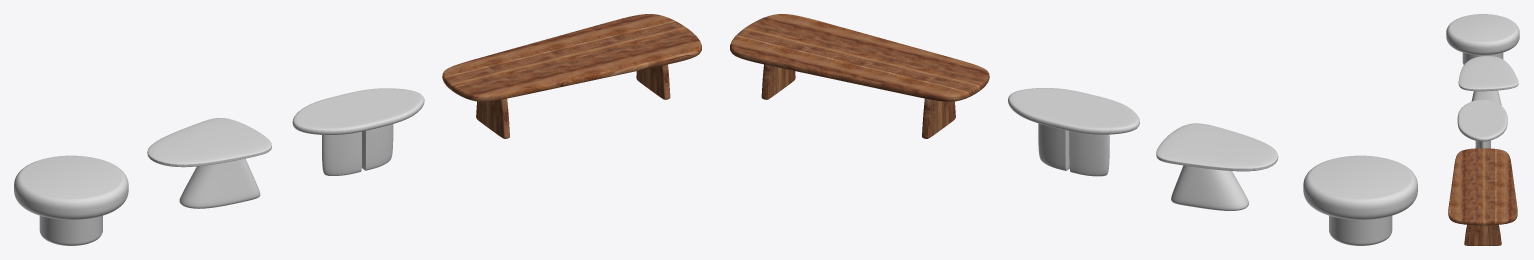
Rendered from 26table0211for.glb.
The picture shows the model from 3 angles, left to right: view 1: azimuth 30°, elevation 25°; view 2: azimuth 150°, elevation 25°; view 3: azimuth 270°, elevation 25°; orthographic projection. The views are drawn at different scales.
Visible parts, largest first — view 1: Plane.003, Cylinder.001, Plane, Cube, Cube.001, Plane.001, Plane.002, Plane.004, Plane.005; view 2: Plane.003, Cylinder.001, Plane, Cube, Cube.001, Plane.001, Plane.002, Plane.004, Plane.005; view 3: Plane.003, Cylinder.001, Cube, Plane, Plane.005, Cube.001, Plane.002.
Boxes of the visible parts, x1,y1,x2,y2 form: Plane.003: (442,14,701,101); Cylinder.001: (14,155,128,245); Plane: (292,88,424,134); Cube: (147,118,271,167); Cube.001: (179,158,260,208); Plane.001: (322,131,361,175); Plane.002: (361,124,393,170); Plane.004: (476,98,509,138); Plane.005: (636,64,670,99); Plane.003: (730,14,989,101); Cylinder.001: (1303,155,1417,245); Plane: (1008,88,1139,134); Cube: (1156,123,1278,171); Cube.001: (1171,165,1248,210); Plane.001: (1069,131,1109,176); Plane.002: (1038,123,1069,170); Plane.004: (922,98,955,138); Plane.005: (761,64,795,99); Plane.003: (1448,148,1517,225); Cylinder.001: (1446,14,1519,64); Cube: (1458,56,1518,91); Plane: (1457,99,1507,141); Plane.005: (1464,225,1501,245); Cube.001: (1471,90,1501,105); Plane.002: (1475,140,1490,148).
Bounding box in the file's own units: 13.43 × 1.17 × 2.
3 materials, 2 textured.
